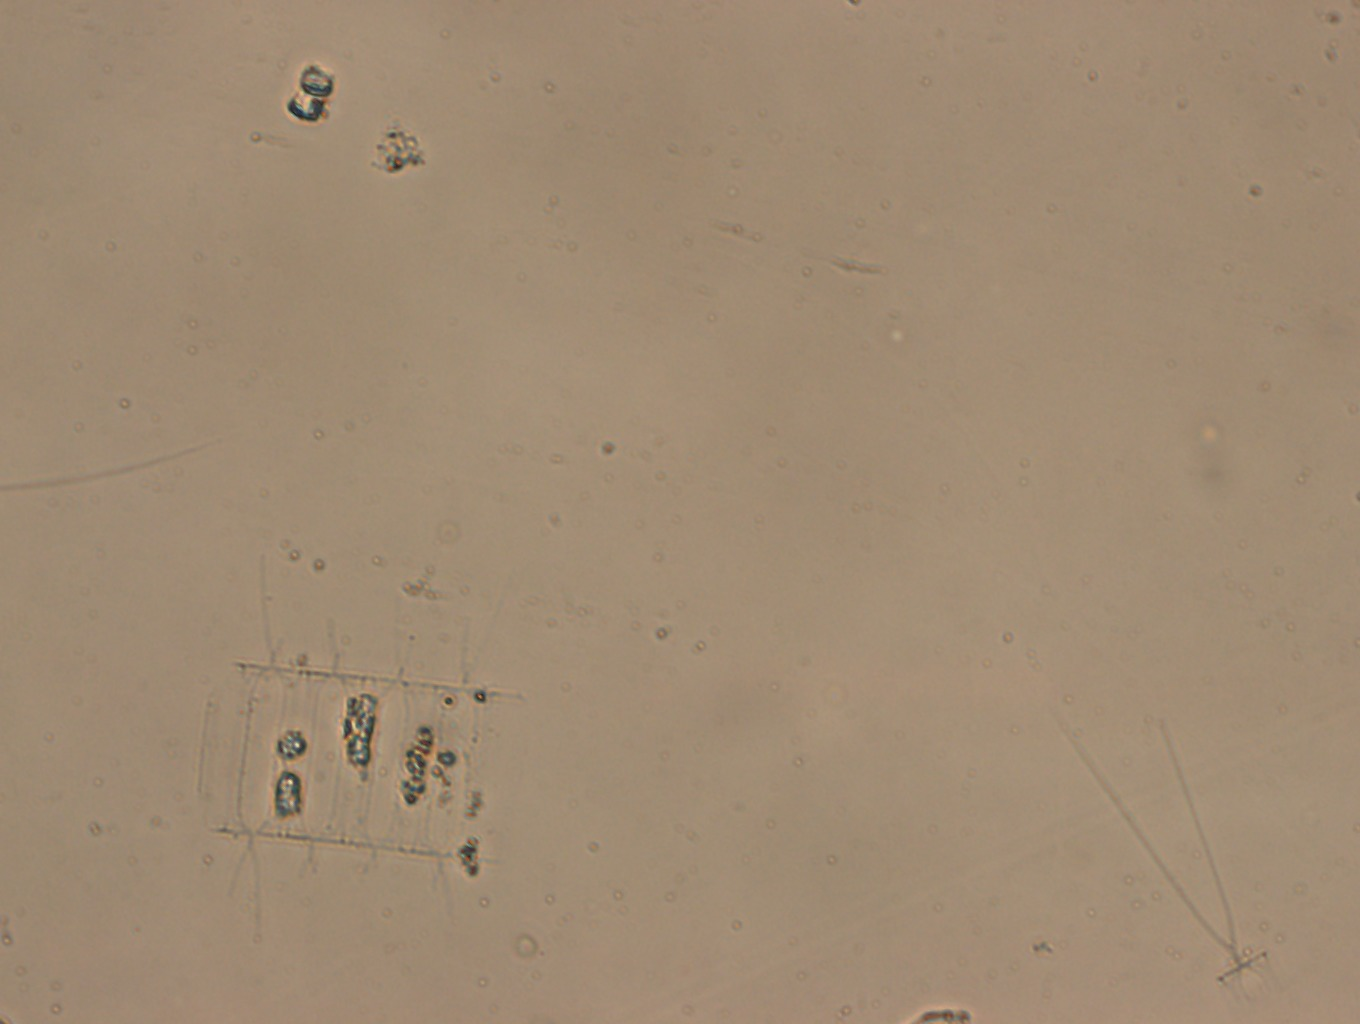chaetoceros: (178, 513, 509, 986)
